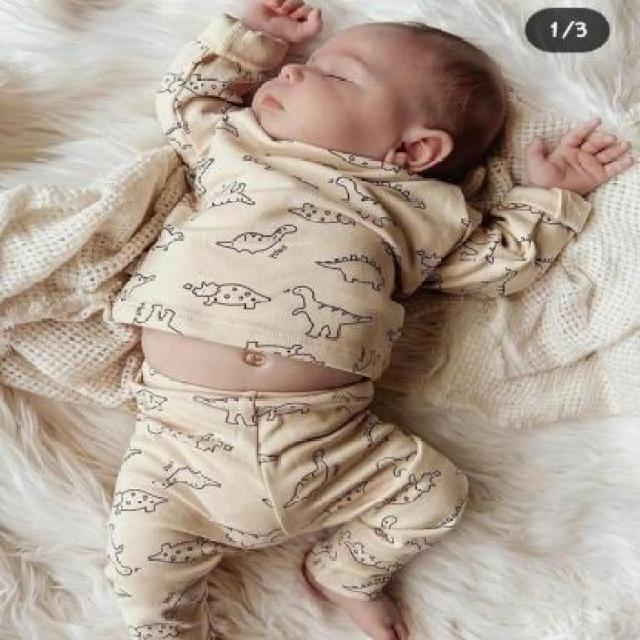baby: (101, 0, 630, 638)
